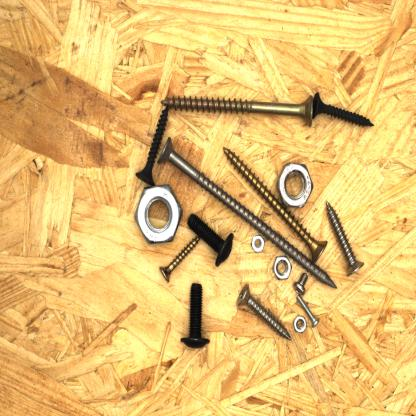screw: (155, 138, 347, 299), (221, 139, 330, 263), (160, 82, 316, 131), (231, 280, 296, 349), (129, 96, 172, 190), (321, 198, 370, 280), (188, 202, 240, 274), (174, 278, 218, 352), (157, 229, 210, 286), (310, 87, 378, 130), (292, 292, 326, 335), (290, 267, 312, 297)
